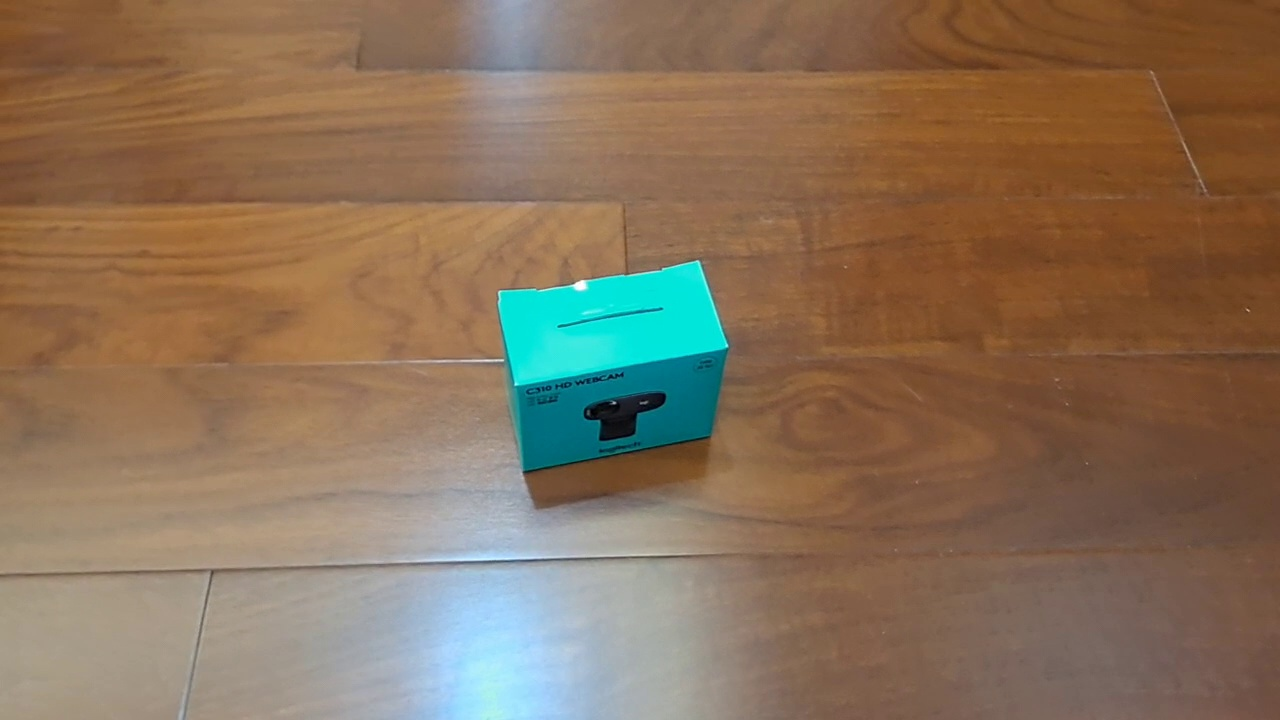webcam: (496, 259, 730, 474)
